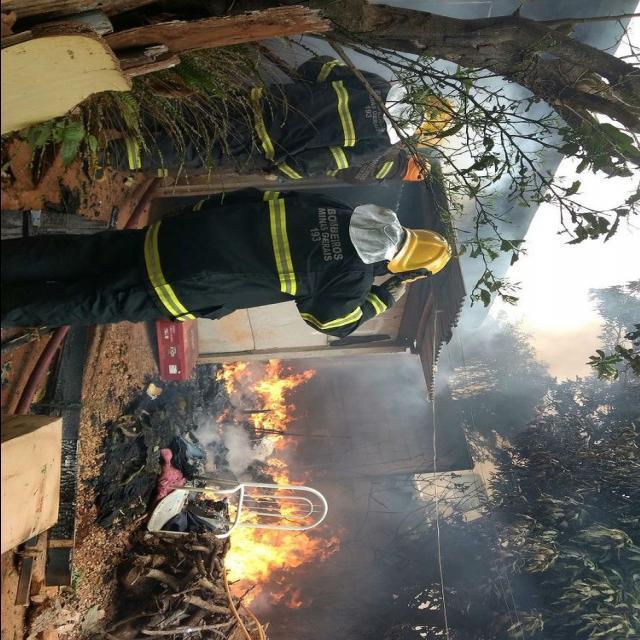Fire: (193, 465, 344, 611), (212, 354, 320, 462)
